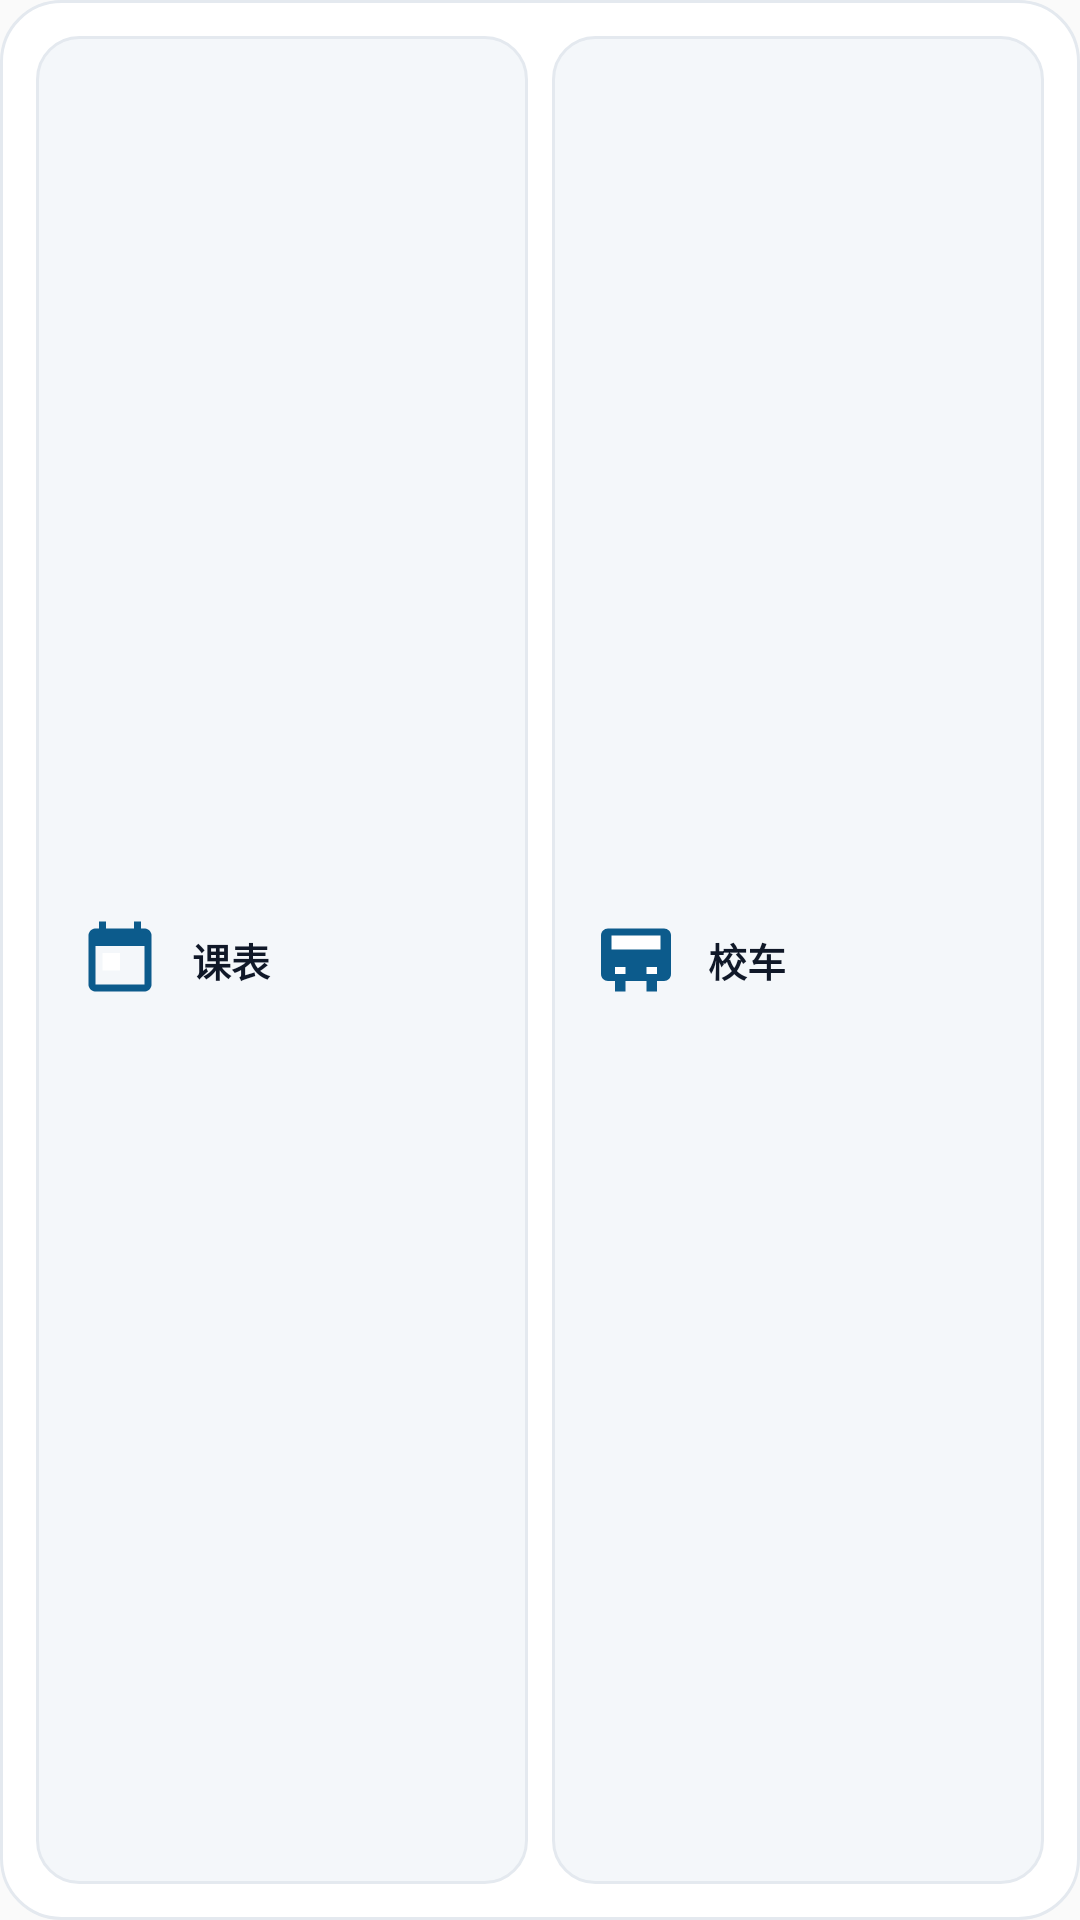

Where icons sit on this 1080 x 1920 app screen, as (x1, y1, x2, y2):
widget bus: (601, 928, 671, 992)
widget schedule: (88, 921, 152, 992)
